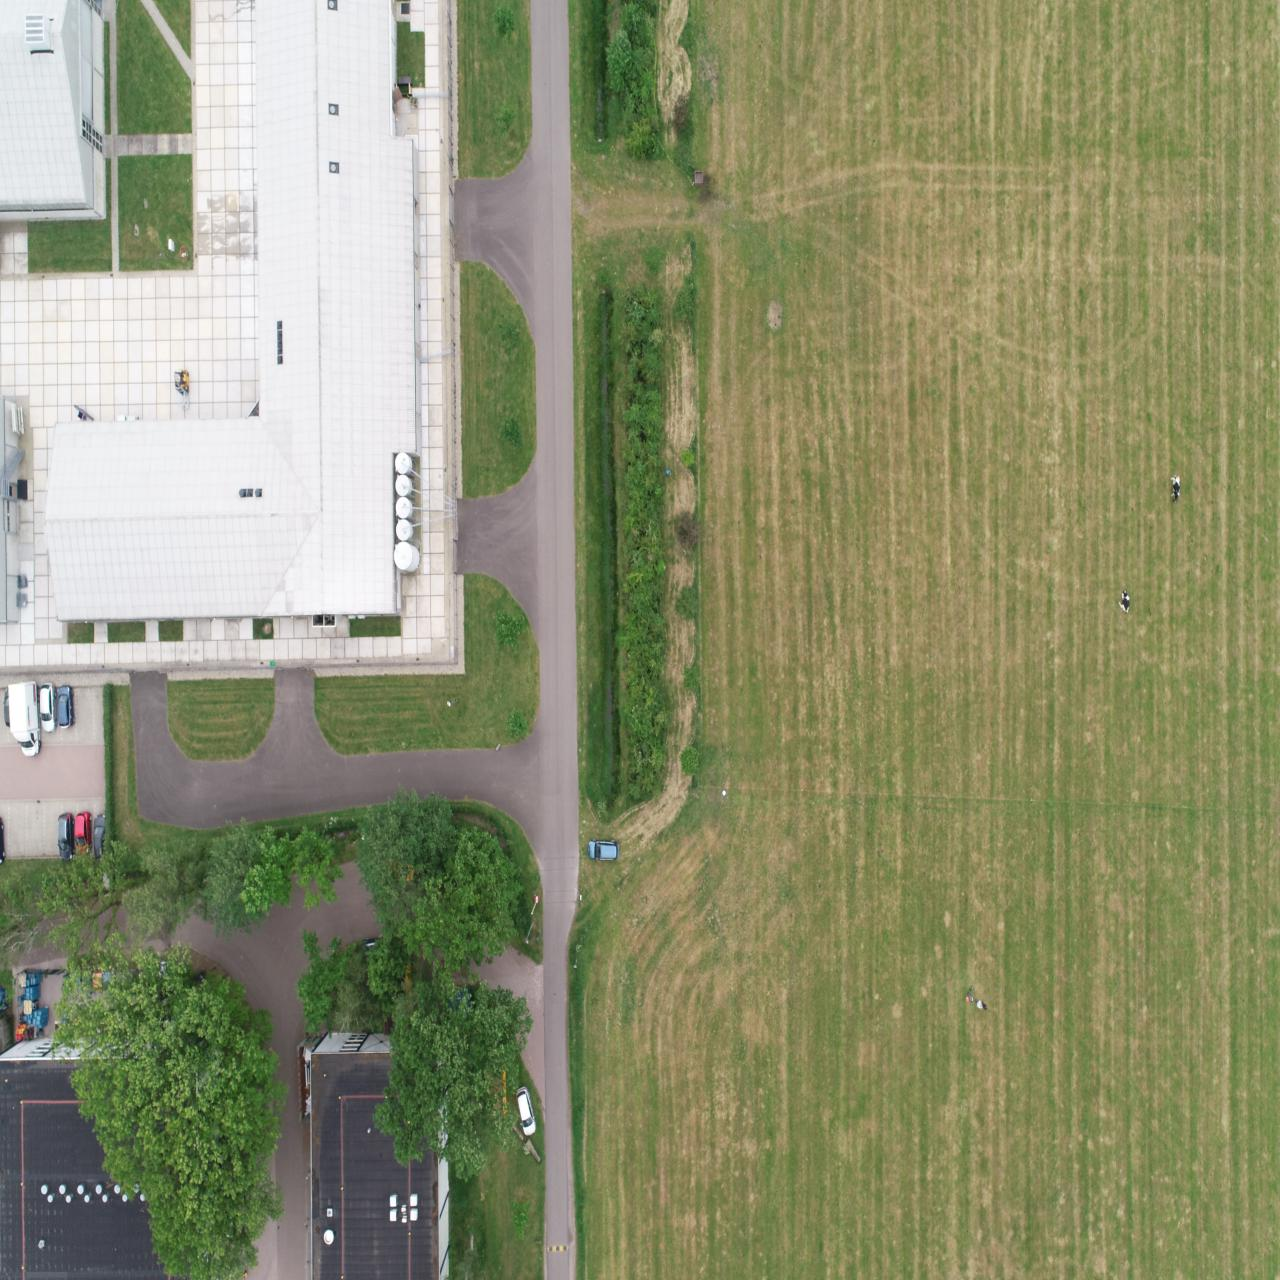cow: (1169, 471, 1182, 504), (1119, 588, 1131, 613)
